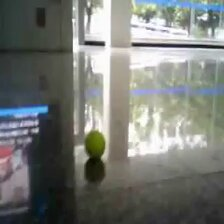tennis: (85, 130, 105, 159)
